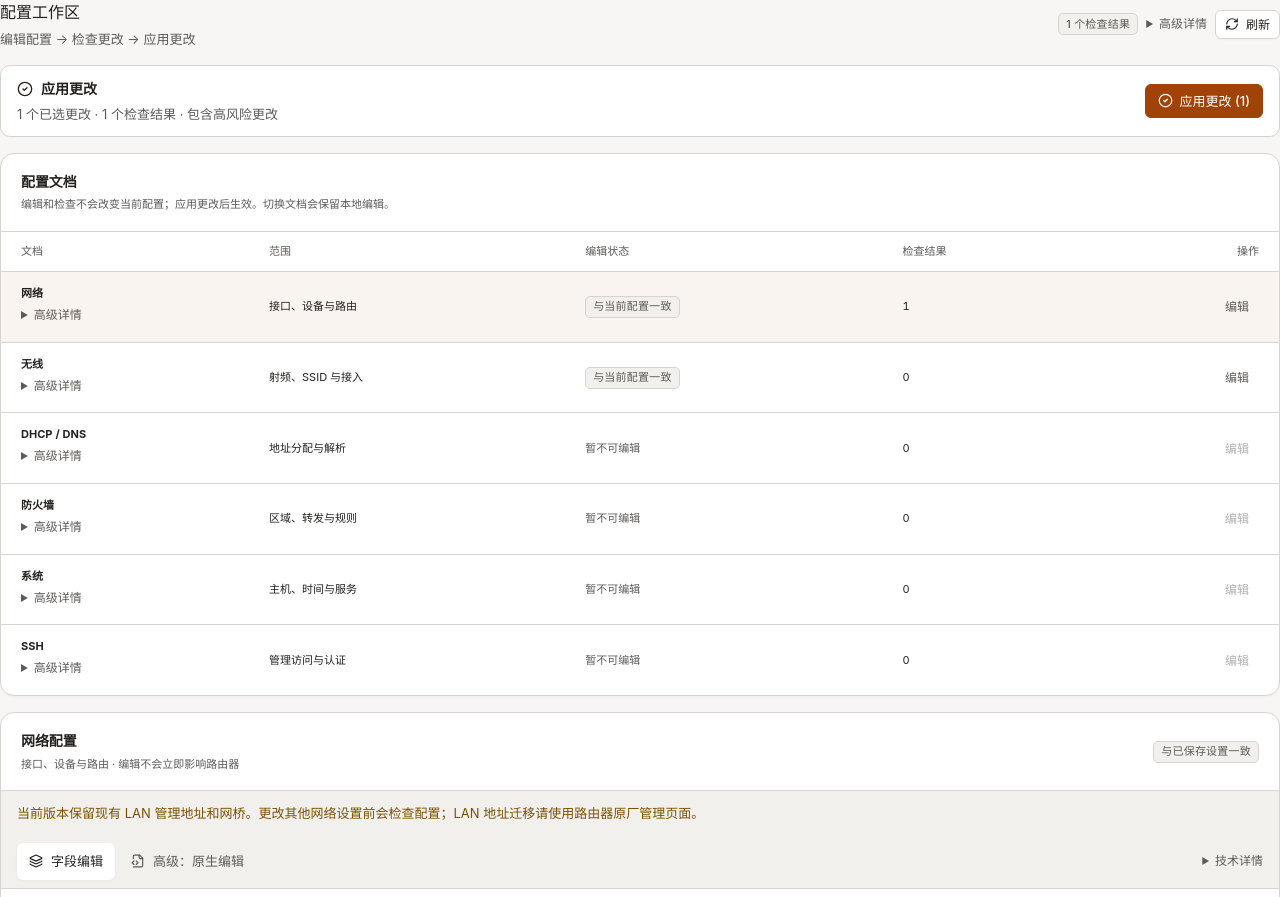
FullControl configuration › retains capture-disabled guidance during pending confirmation and after 恢复上一配置
Click the button with aria-label "应用已选更改 (1)": {"x": 1204, "y": 101} x1=1144 y1=84 x2=1263 y2=118
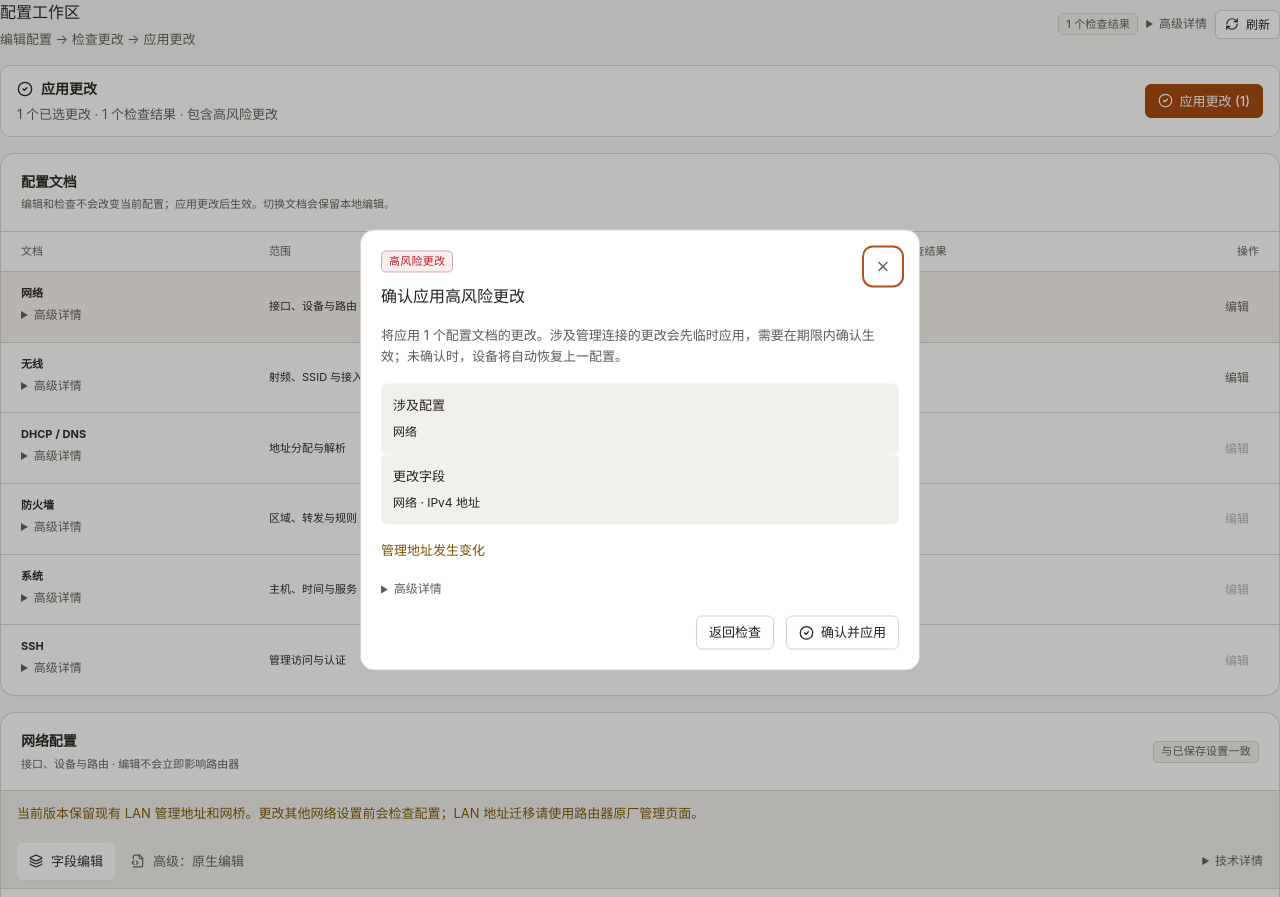
Click the button "确认并应用": {"x": 842, "y": 632} x1=786 y1=616 x2=899 y2=650
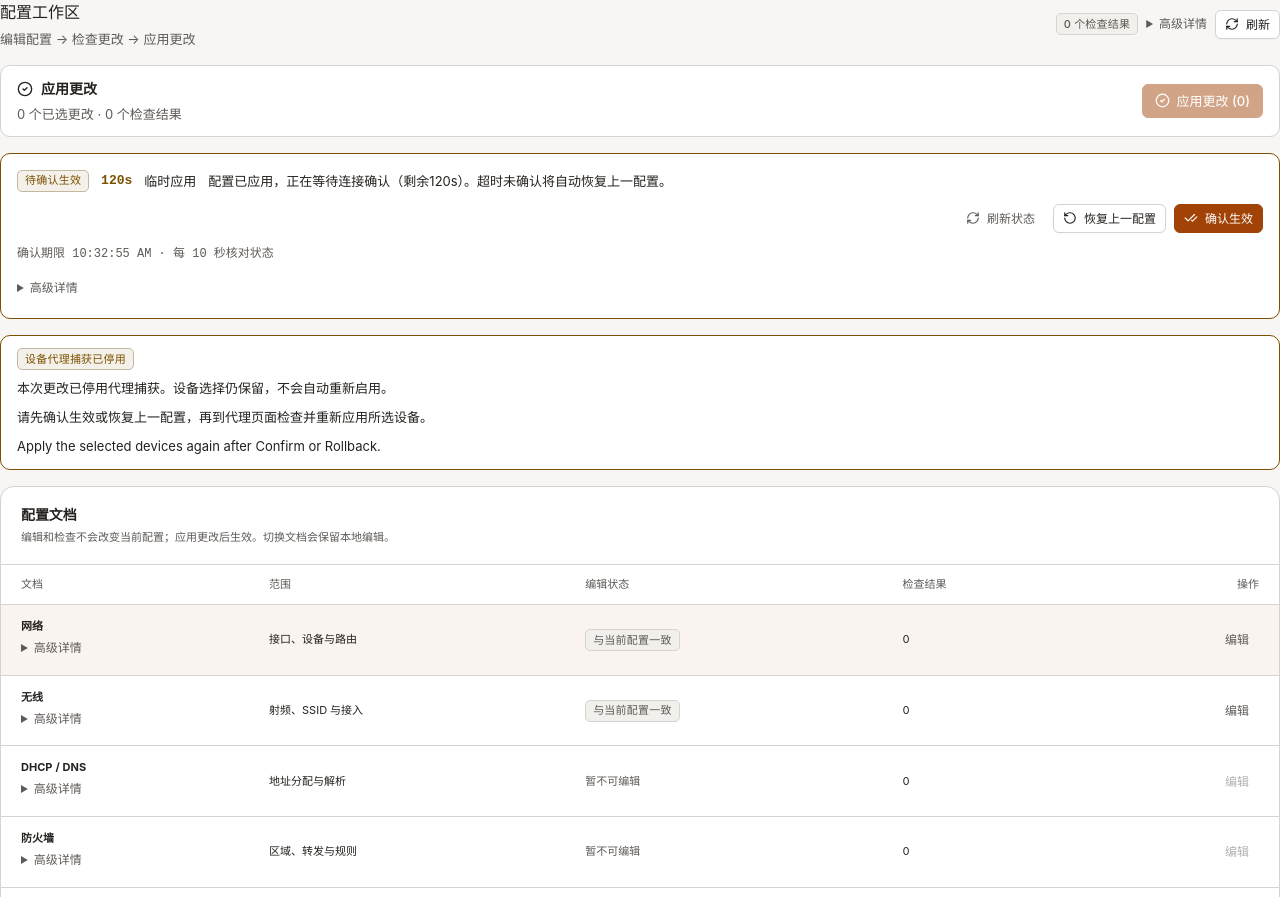
Now the text "待确认生效" is shown, box x1=17 y1=170 x2=89 y2=192
Now the message named "配置应用提示" shows "请先确认生效或恢复上一配置", box x1=17 y1=409 x2=433 y2=425
Click the button "恢复上一配置": {"x": 1110, "y": 218} x1=1053 y1=204 x2=1166 y2=233
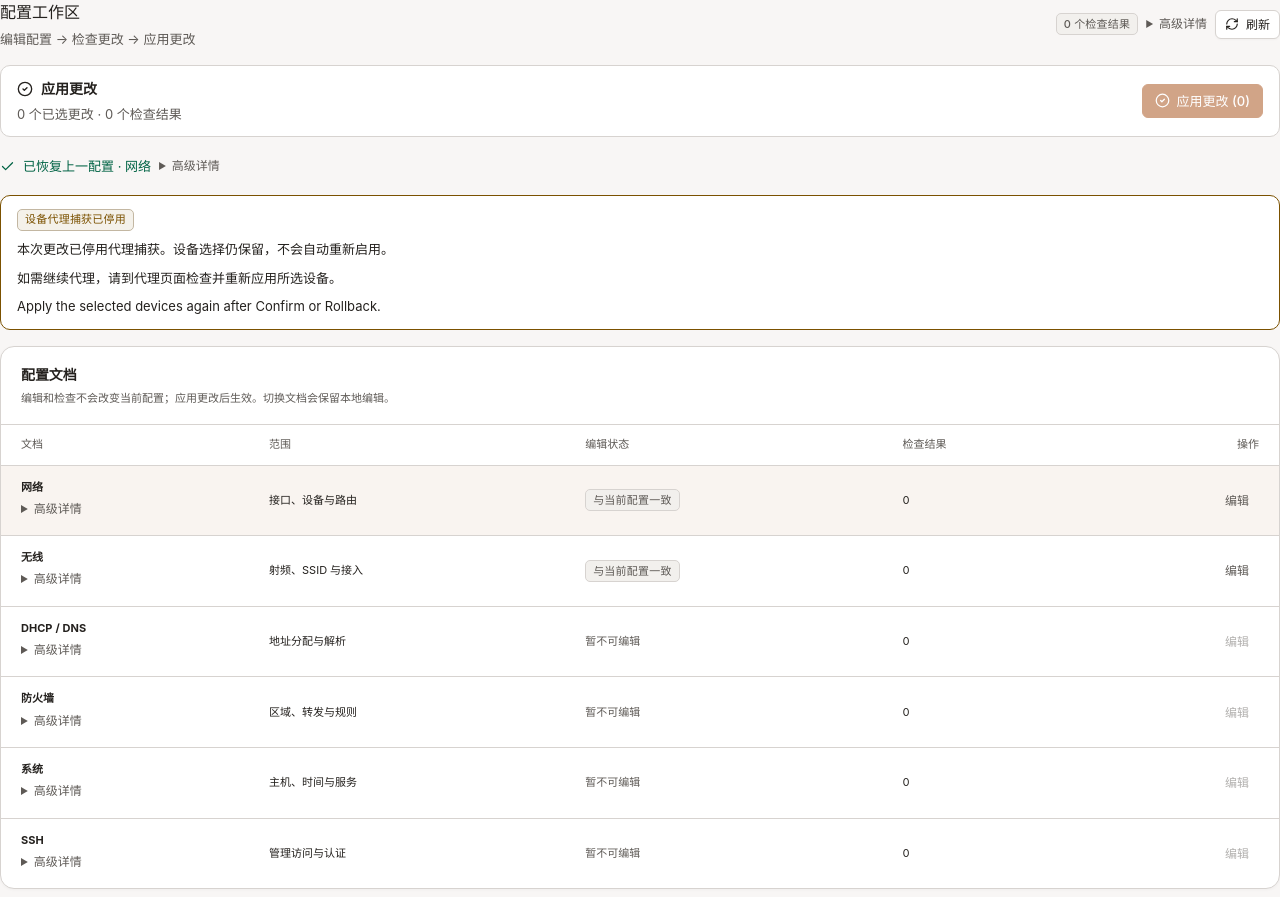
Now the message named "配置应用提示" shows "Apply the selected devices again after Confirm or Rollback.", box x1=17 y1=298 x2=381 y2=314
Now the text "已恢复上一配置 · 网络" is shown, box x1=23 y1=156 x2=151 y2=176
Now the text "待确认生效" is gone
